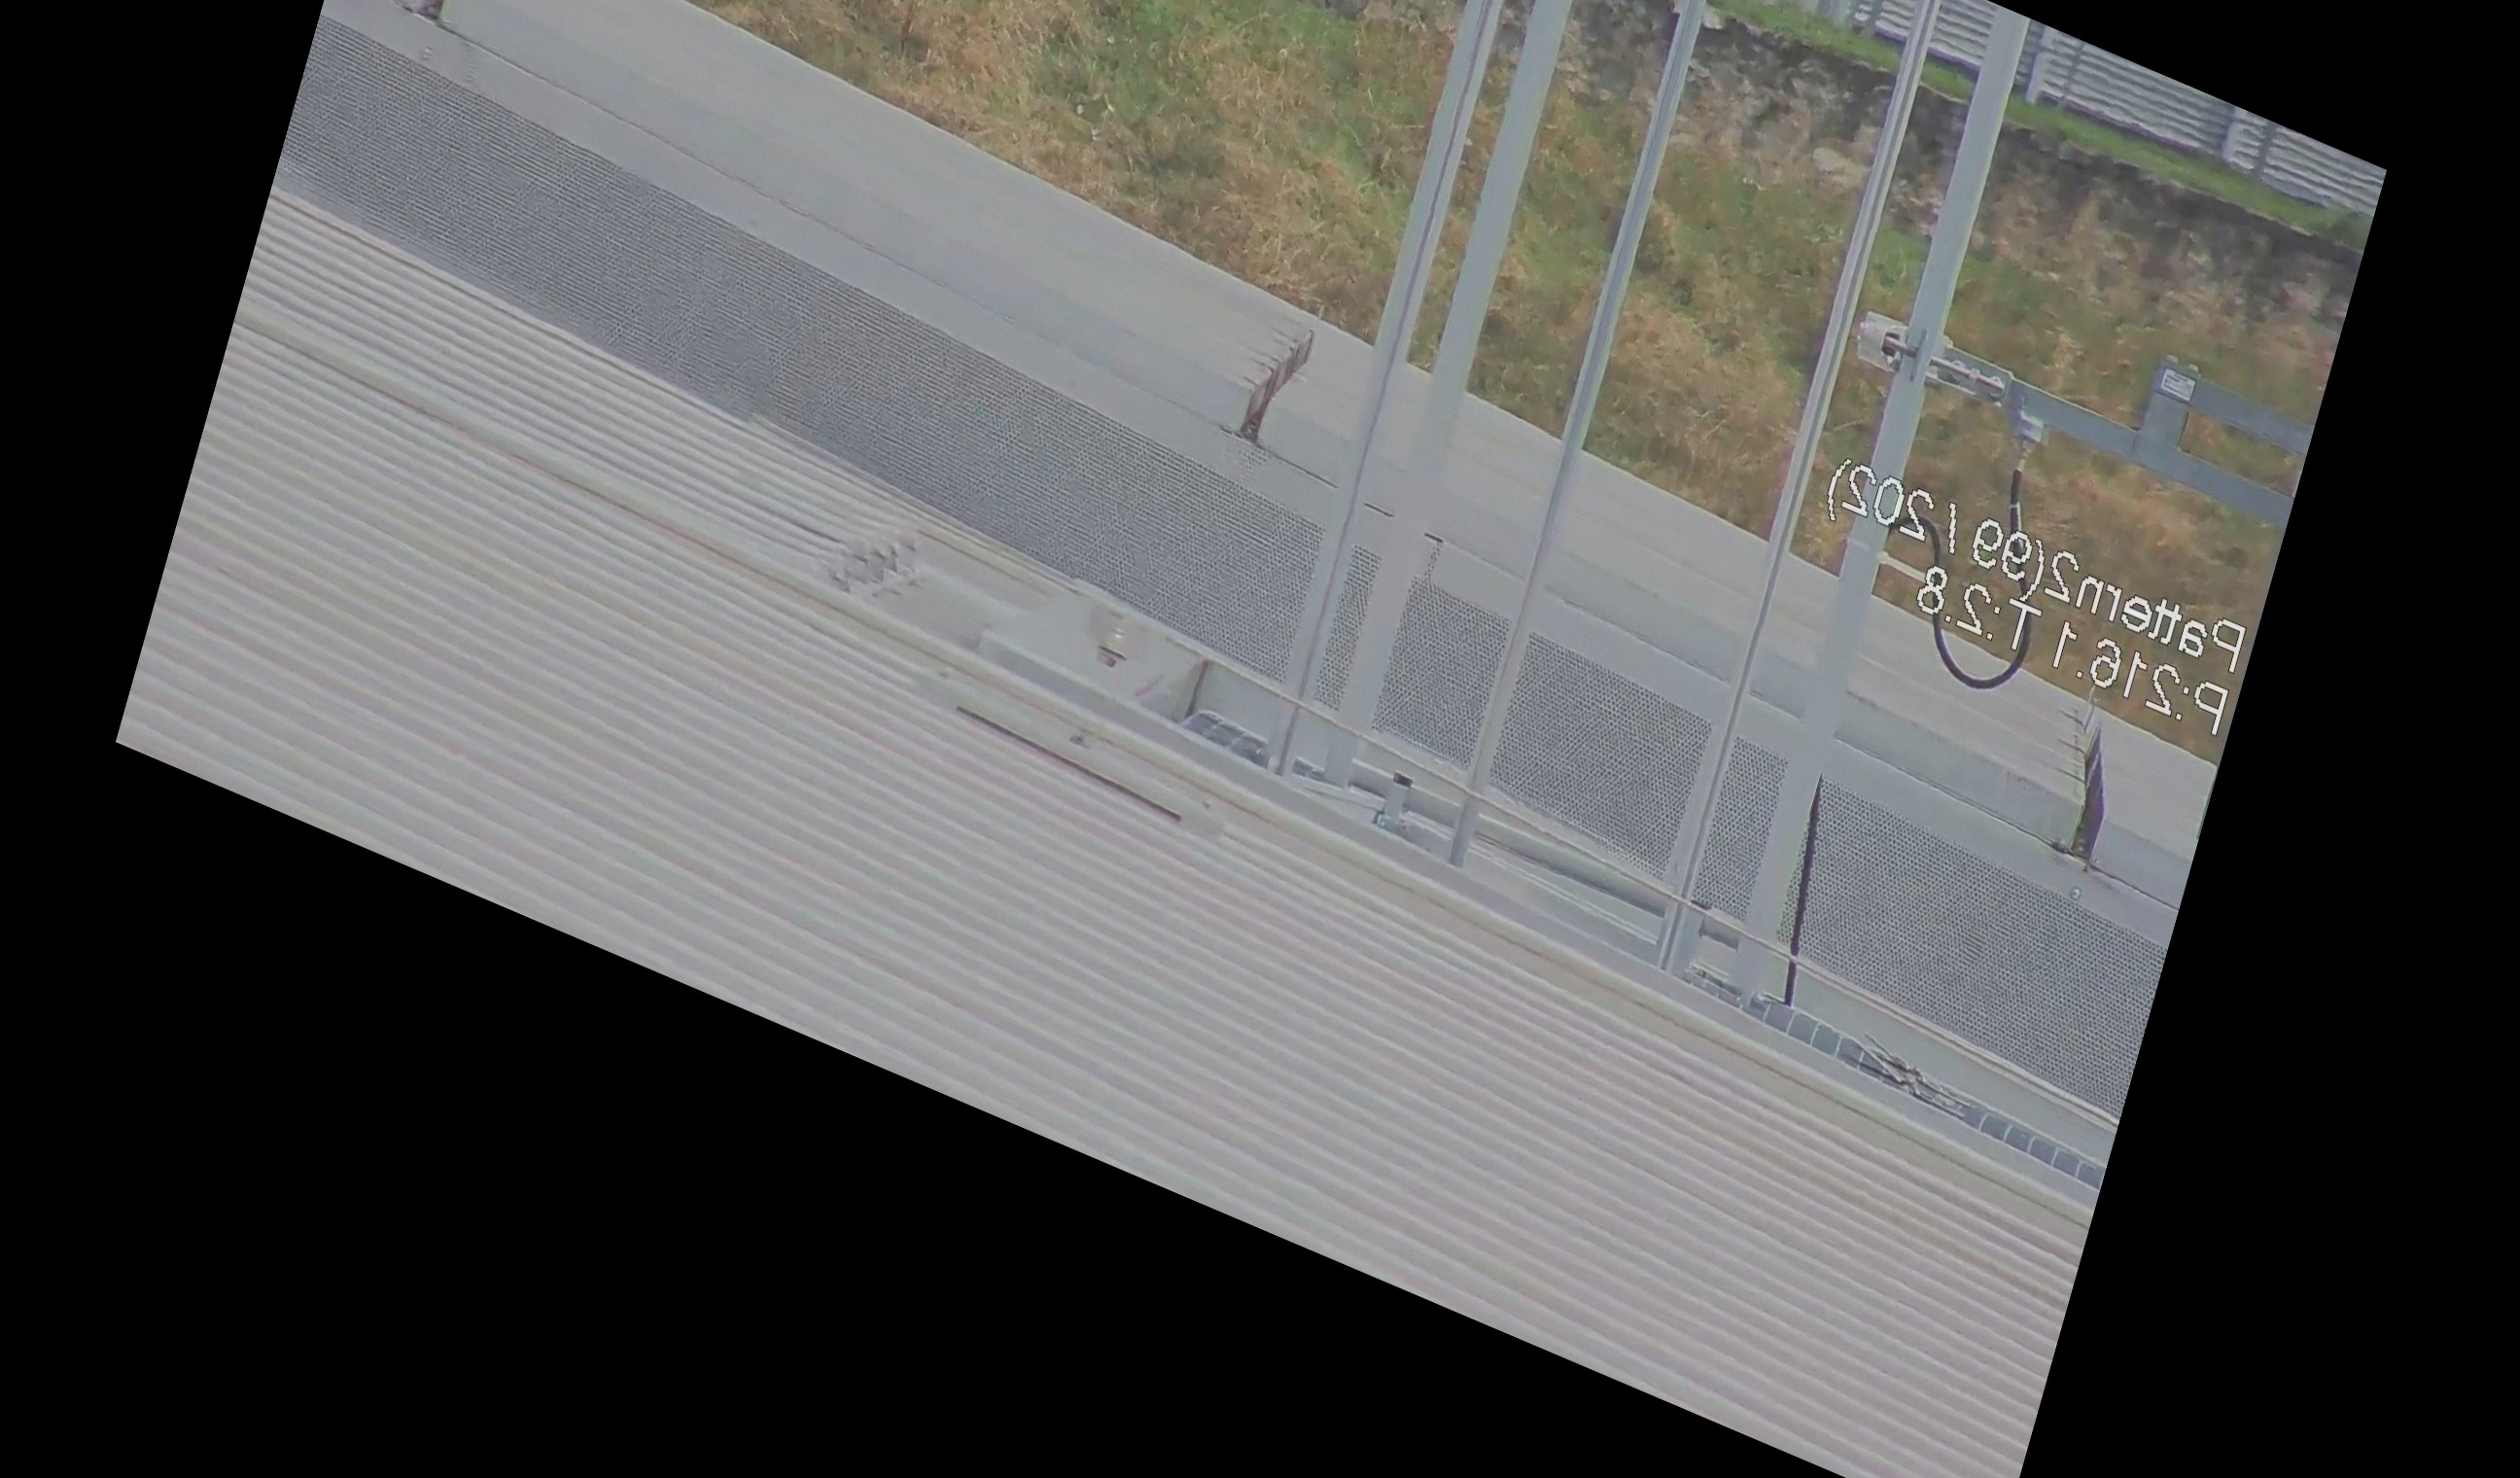Other: (1210, 280, 1342, 466)
